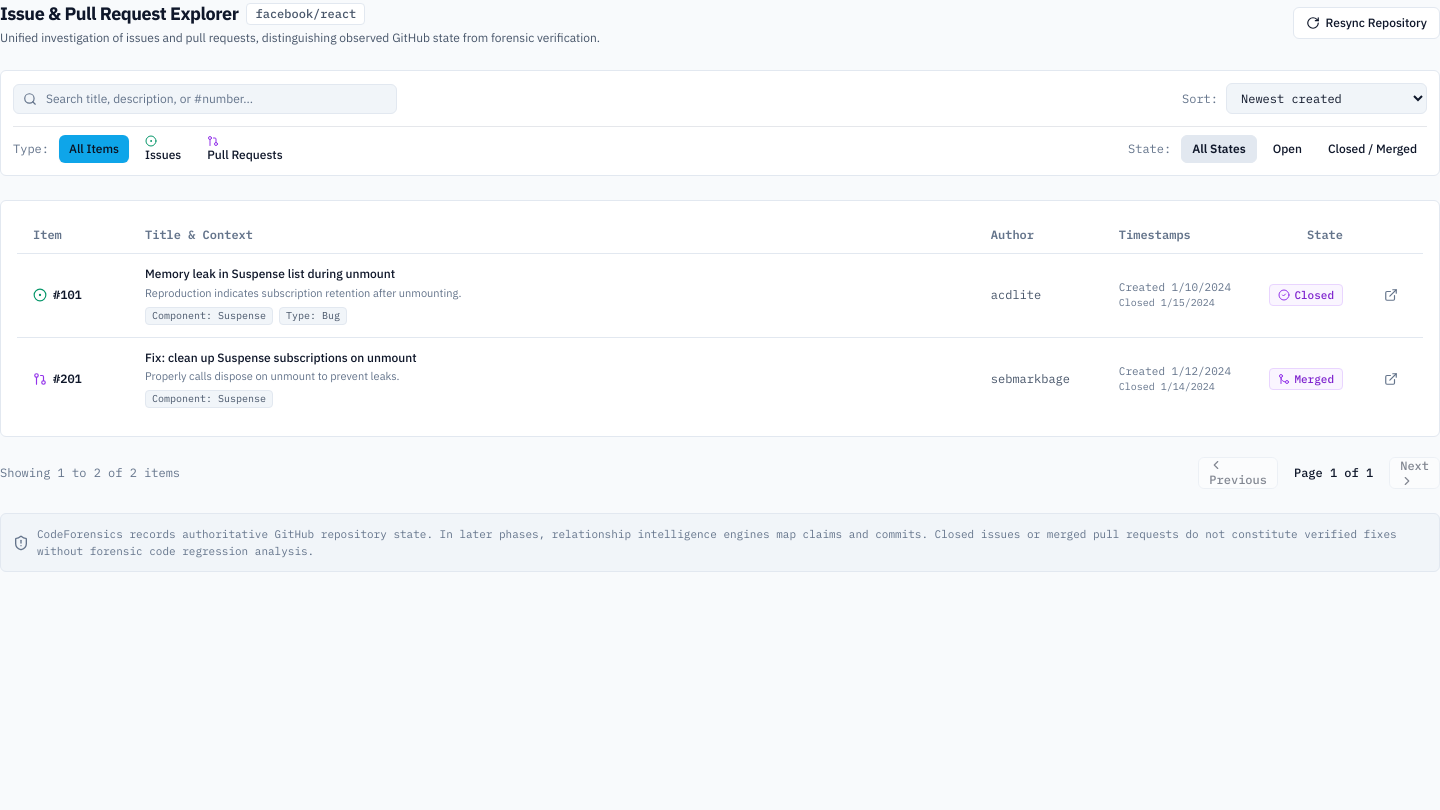
Test: Phase 5: Issue & PR Explorer Frontend Component › opens WorkItemDetailDrawer when clicking a table row
// Click on row
Click the text "Memory leak in Suspense list during unmount".
click(270, 274)  # box [145,266,395,281]
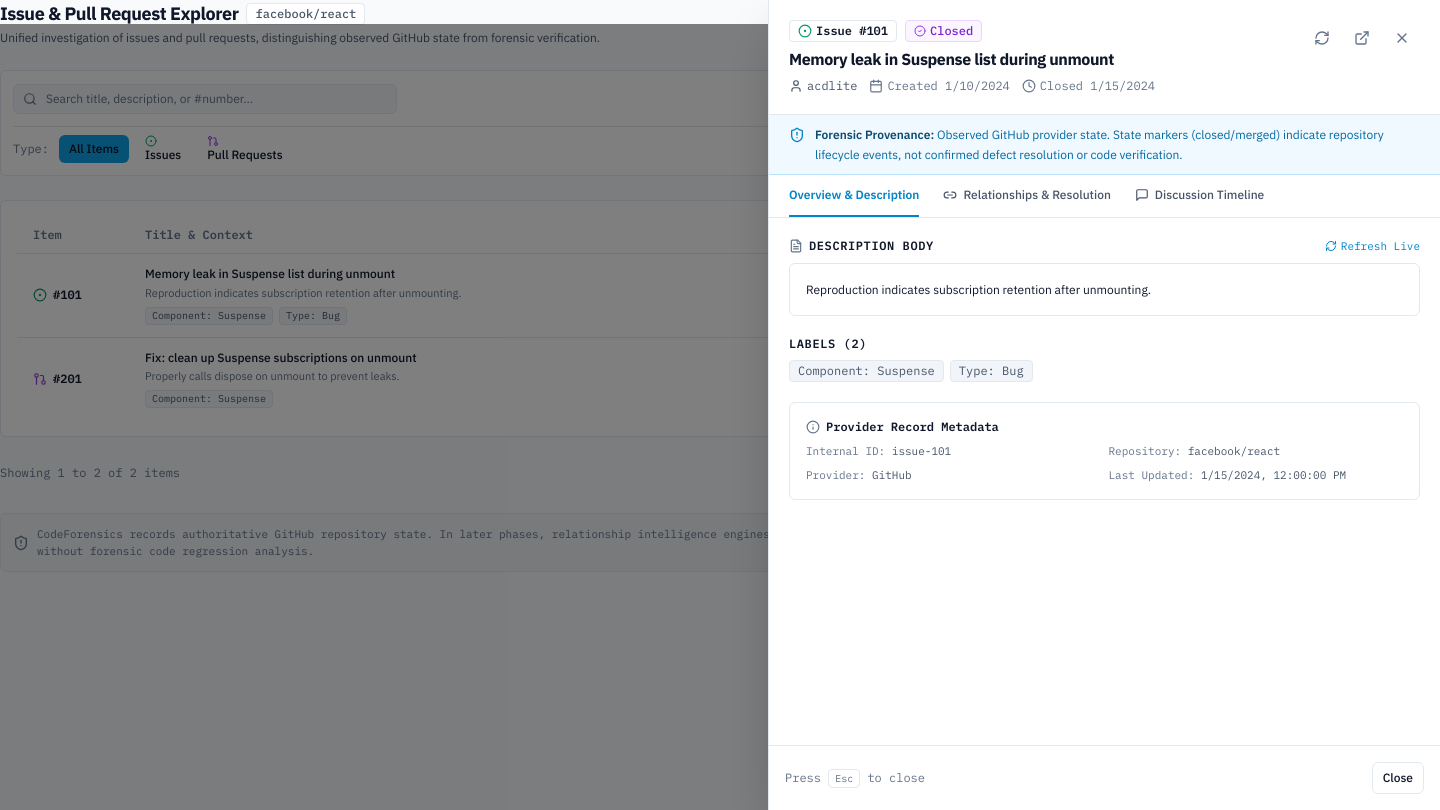
Now the text "Forensic Provenance:" is shown, box [815,127,934,142]
Now the heading "Description Body" is shown, box [789,238,934,254]
Now the button "Discussion Timeline" is shown, box [1135,175,1264,217]
// Close drawer
Click the button named "Close drawer".
click(1402, 38)  # box [1384,20,1420,56]
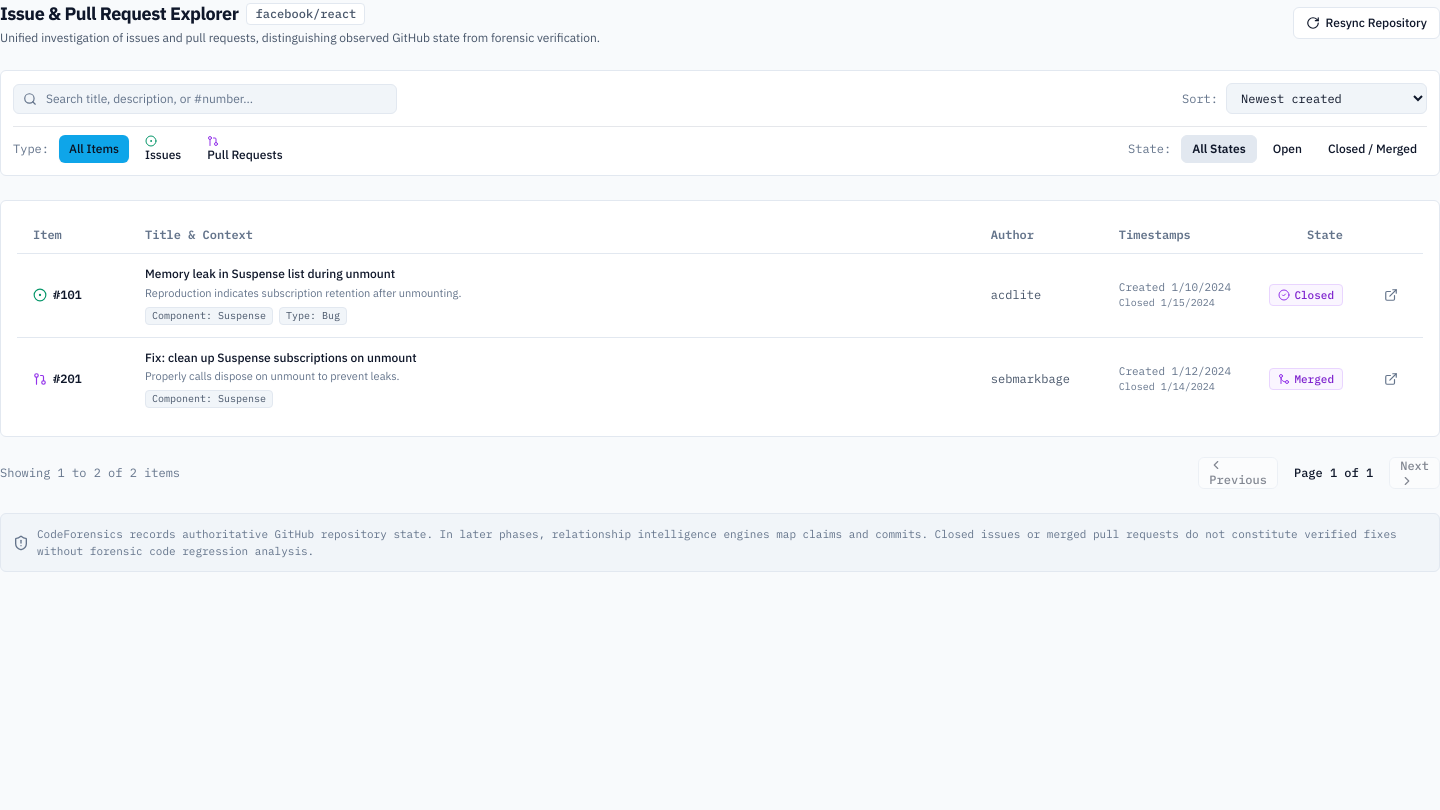
Now the heading "Description Body" is gone
